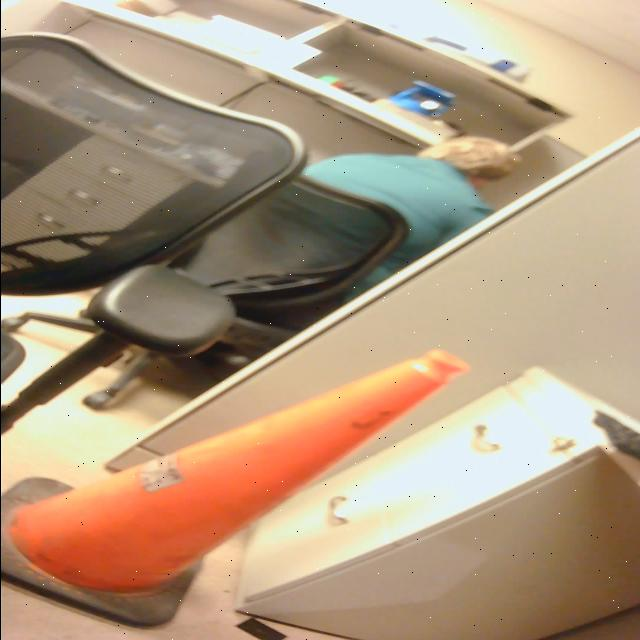traffic cone: (1, 347, 478, 635)
